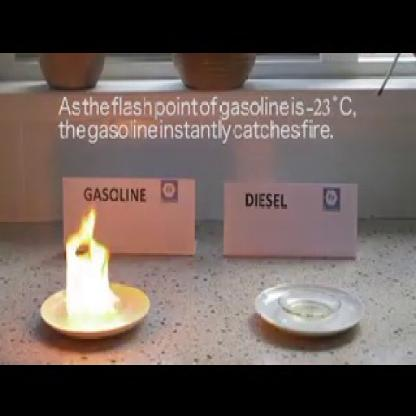fire: (48, 203, 126, 324)
